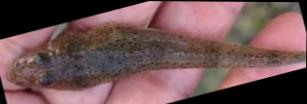fish: (4, 21, 306, 91)
